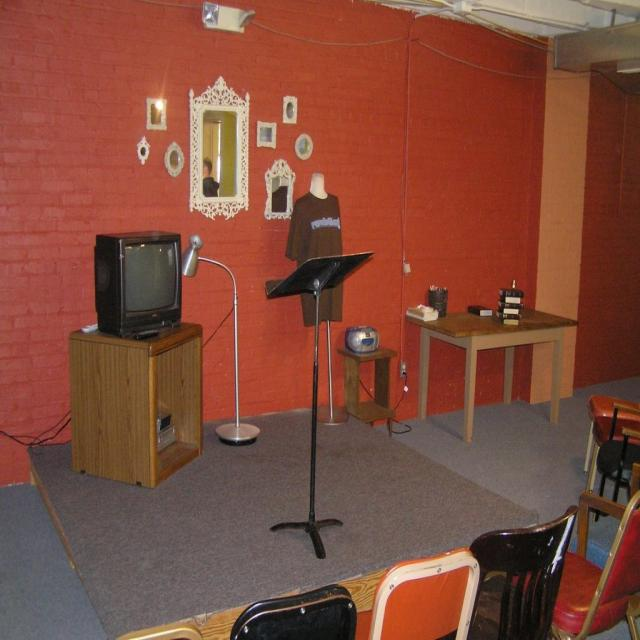chair: (465, 506, 577, 639), (550, 484, 640, 640), (367, 547, 480, 639)
desk: (395, 297, 581, 451)
tv: (94, 232, 182, 337)
